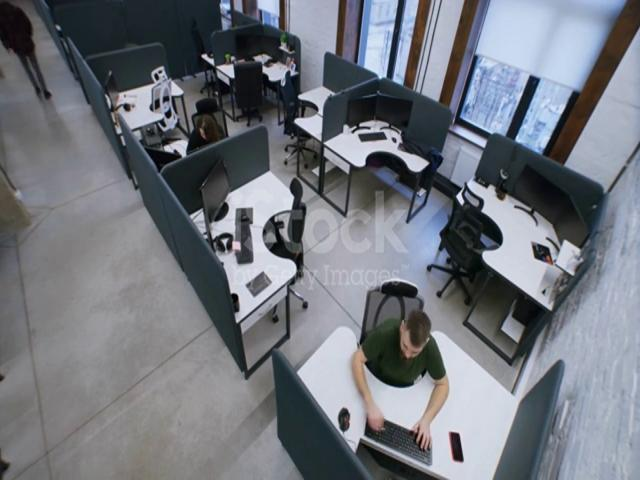empty chair: (437, 172, 486, 316), (280, 162, 315, 314), (146, 61, 177, 144), (234, 60, 272, 127), (183, 17, 214, 88), (285, 83, 309, 173)
occupiedchair: (352, 269, 442, 402), (182, 98, 228, 158)
